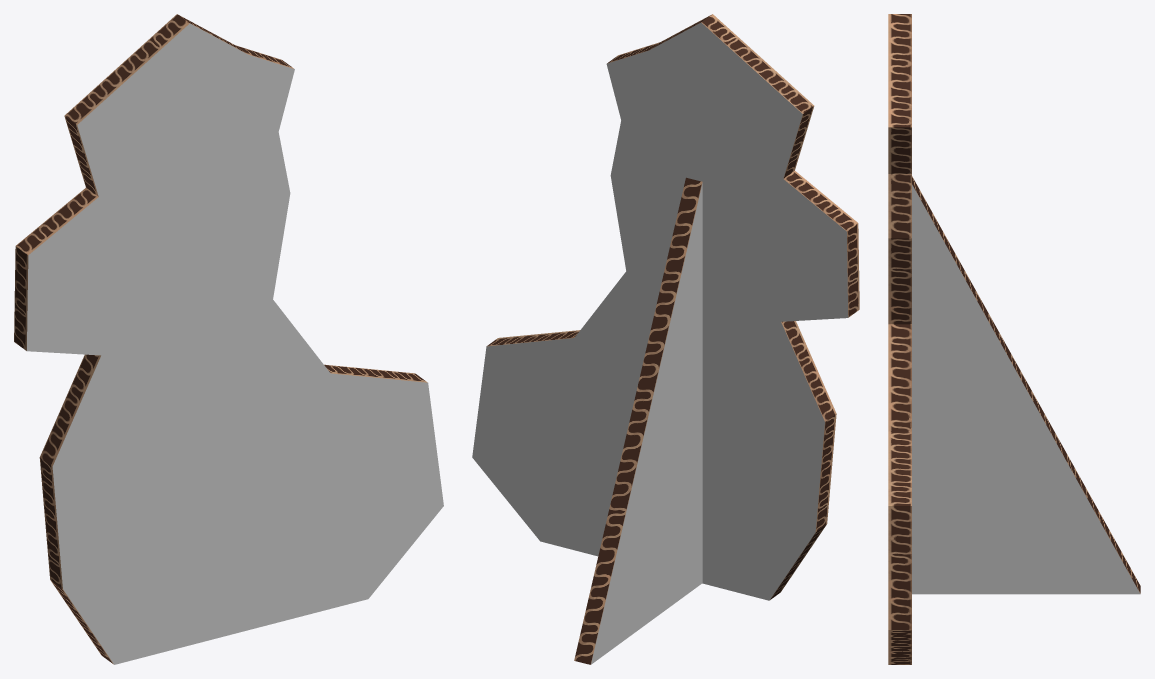
The model's file is Cactus_7.fbx.
3 renders of one model, left to right at view 1: azimuth 30°, elevation 25°; view 2: azimuth 150°, elevation 25°; view 3: azimuth 270°, elevation 25°, orthographic. The views are drawn at different scales.
Visible parts, largest first — view 1: Cactus 7_LOD0; view 2: Cactus 7_LOD0; view 3: Cactus 7_LOD0.
Part boxes in pixels (box(x1,y1,x2,y2)): Cactus 7_LOD0: box(14, 14, 443, 664); Cactus 7_LOD0: box(472, 14, 859, 664); Cactus 7_LOD0: box(888, 14, 1140, 664).
Size of the model in its own units: 366 by 522 by 208.
